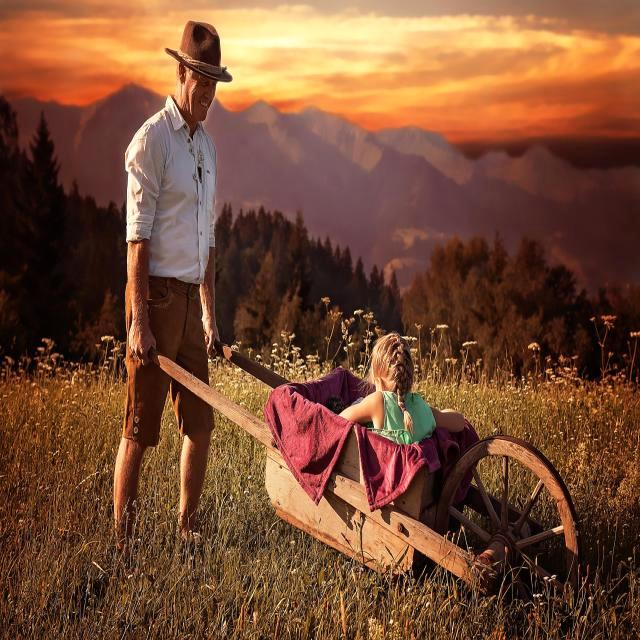no_hard_hat: (166, 21, 232, 82)
no_head_wear: (370, 332, 416, 447)
person: (114, 21, 232, 549), (340, 333, 438, 448)
